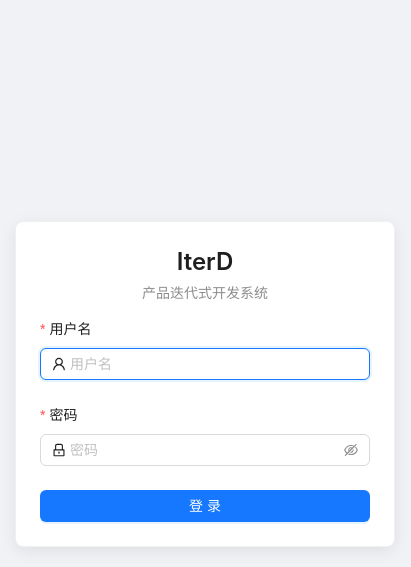
Test: LoginPage 登录表单 › 登录失败：展示后端 detail 错误且不写 token
In the field with placeholder "用户名": (214, 364) 70,353 -> 358,375, type "admin"
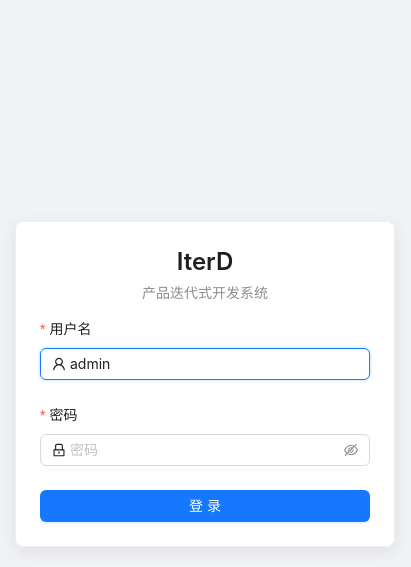
In the password field with placeholder "密码": (205, 450) 70,439 -> 340,461, type "wrong-pass"
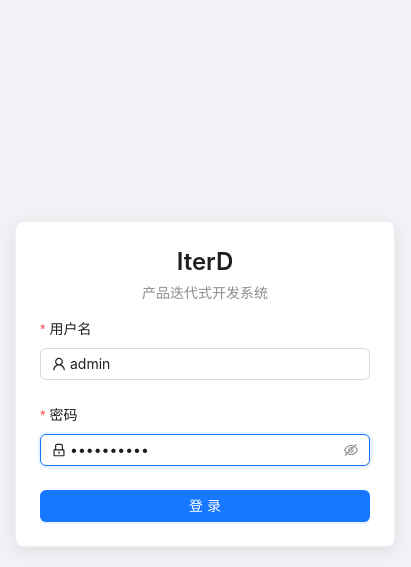
Click the button "登 录": (205, 506) 40,490 -> 370,522
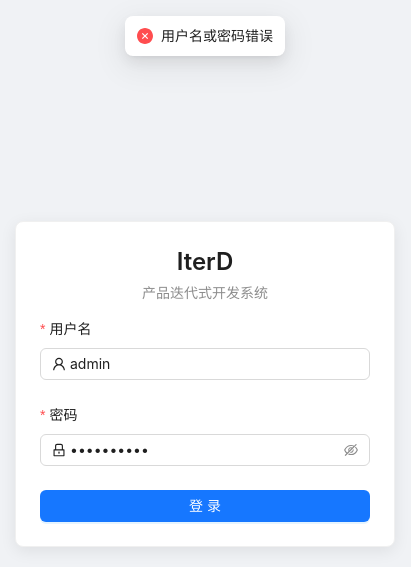
Expected: the text "用户名或密码错误" is shown, 161,25 -> 273,47
